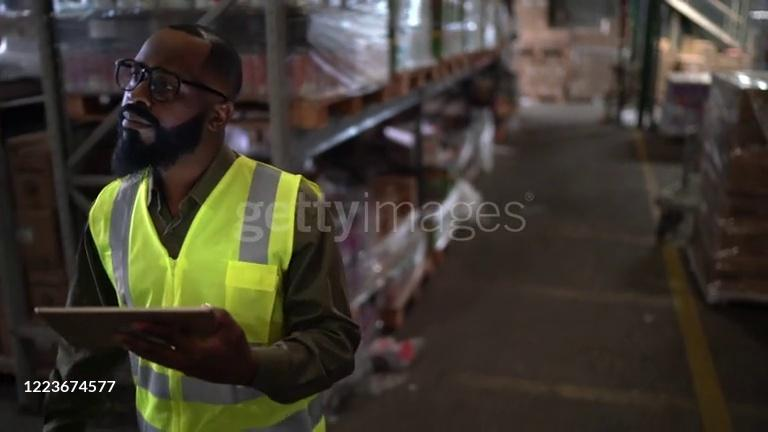person: (42, 26, 363, 432)
